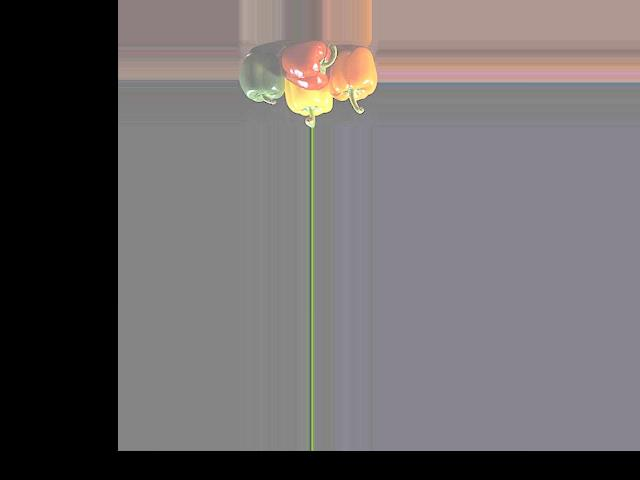bell_pepper: (327, 38, 377, 107)
